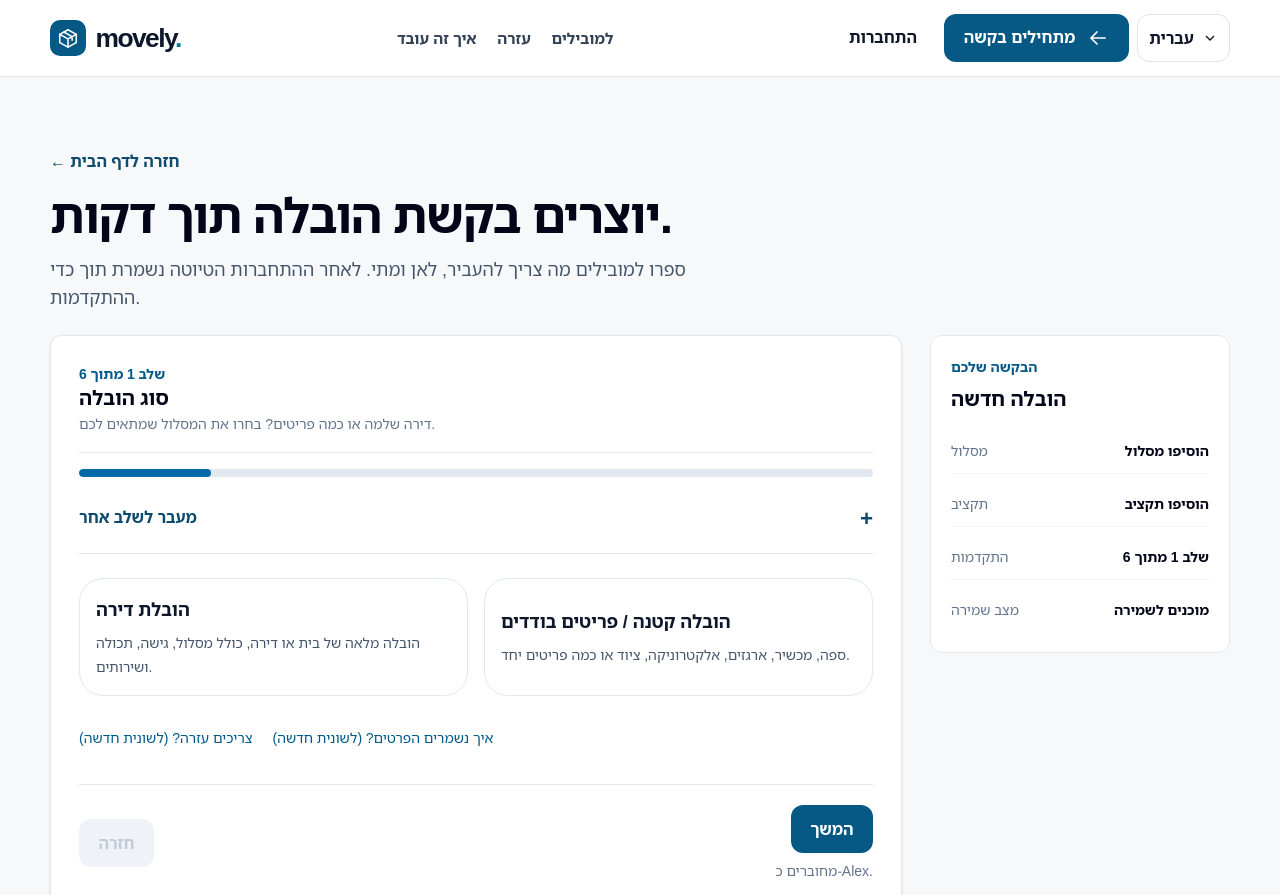
it: WIZARD-003 Continue saves current Draft step.
The width and height of the screenshot is (1280, 895).
Expected: the button "המשך" is enabled, 791,805 -> 873,853
Click the button "הובלת דירה הובלה מלאה של בית או דירה" at (274, 637), box 79,578 -> 468,696
(page scrolled)
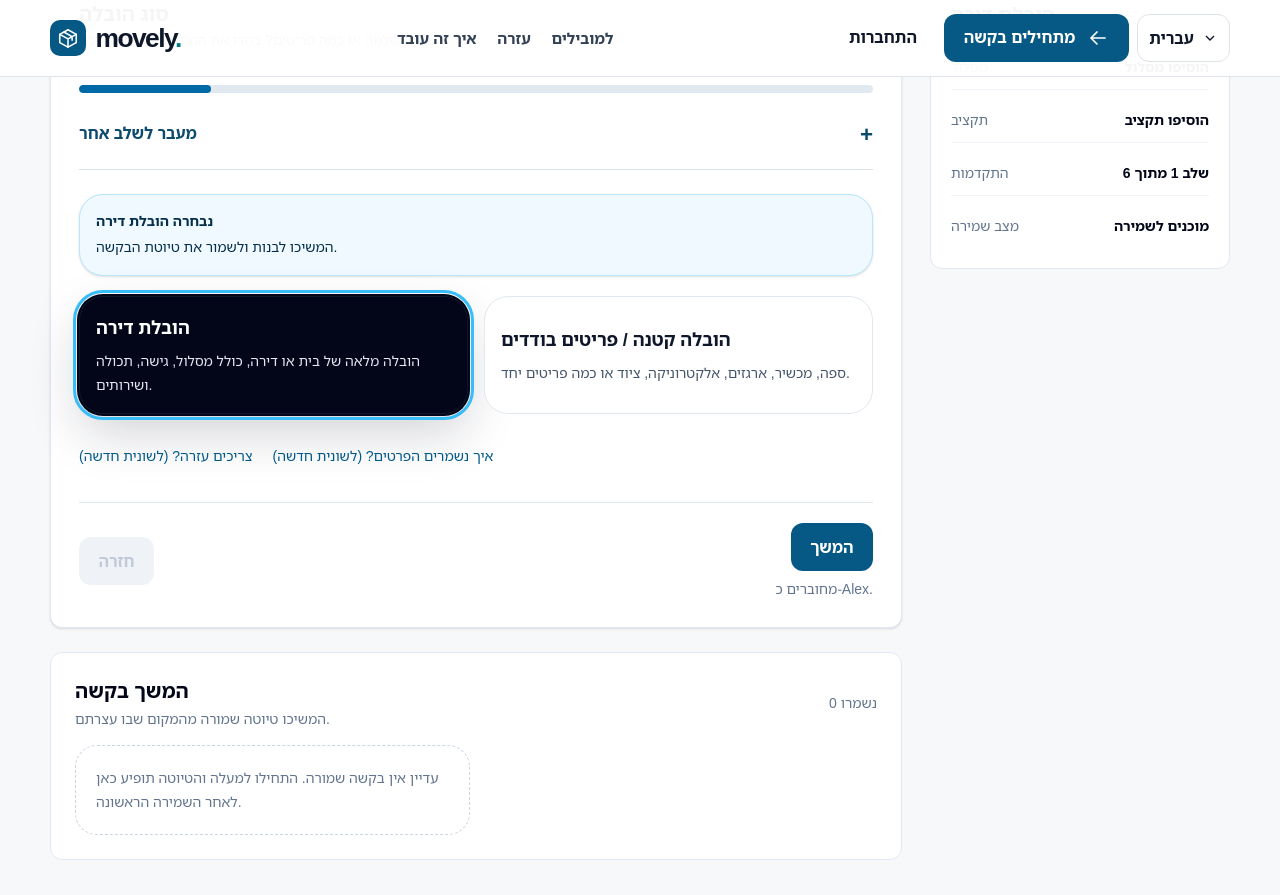
Click the button "המשך" at (832, 547), box 791,523 -> 873,571
(page scrolled)
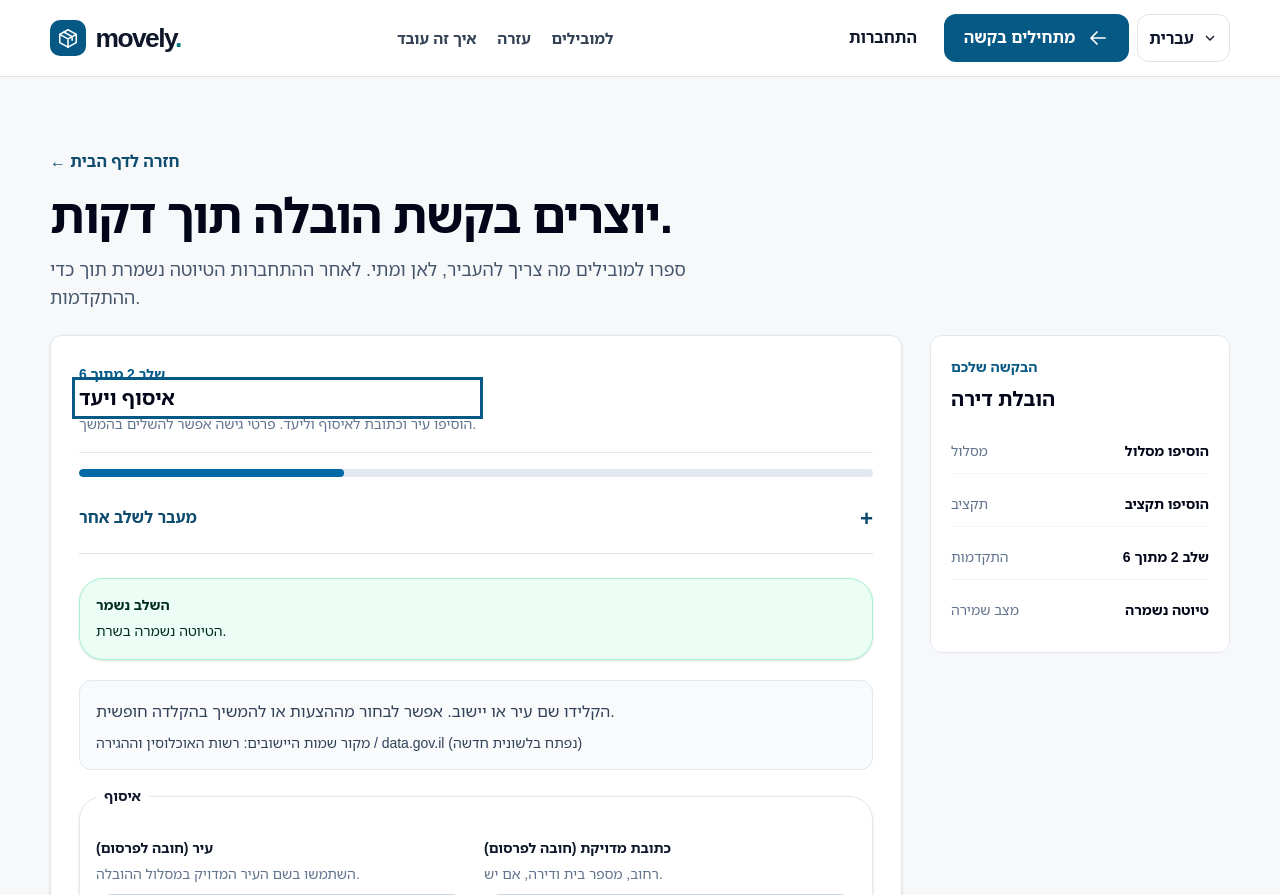
Now the heading "איסוף ויעד" is shown, box 79,384 -> 175,411
